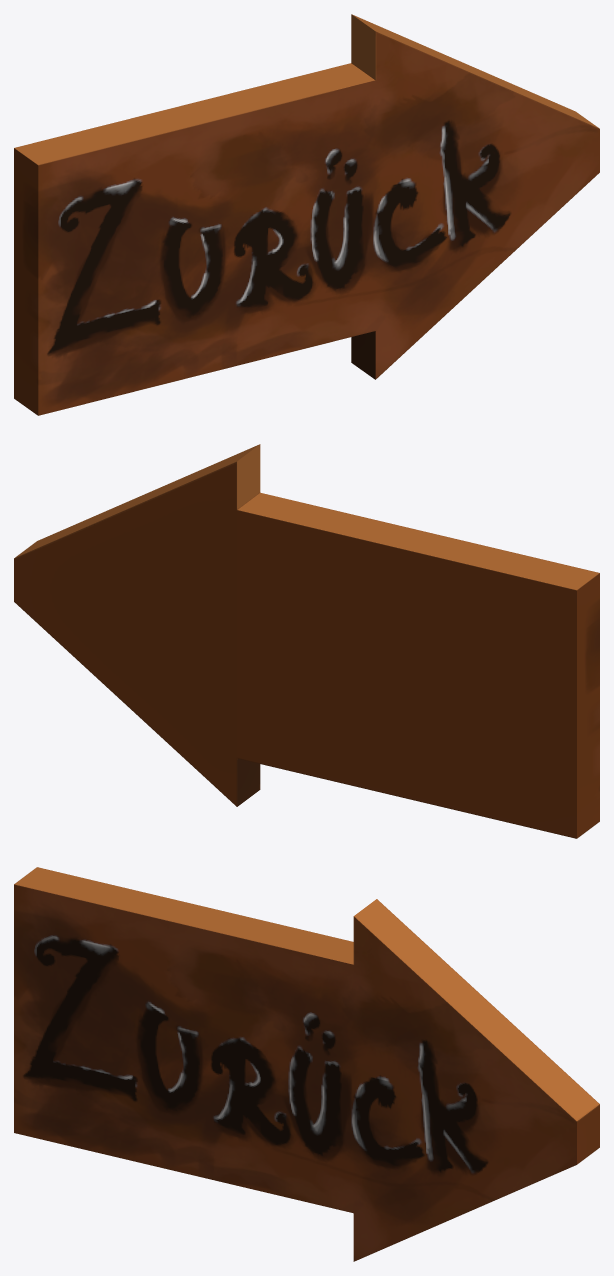
Rendered from Sign.glb.
3 views of the same model, one above another, from view 1: azimuth 30°, elevation 25°; view 2: azimuth 150°, elevation 25°; view 3: azimuth 330°, elevation 25° (orthographic).
Visible parts, largest first — view 1: Cube.002; view 2: Cube.002; view 3: Cube.002.
Boxes of the visible parts, x1,y1,x2,y2 form: Cube.002: [14, 14, 599, 415]; Cube.002: [14, 444, 599, 838]; Cube.002: [14, 867, 599, 1261].
Bounding box in the file's own units: 0.7768 × 0.4579 × 0.0635.
Materials: 1 (1 with a texture image).
